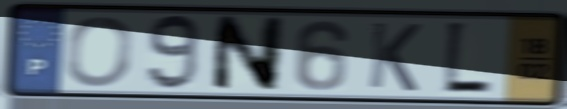6: (292, 18, 352, 93)
9: (141, 12, 203, 94)
K: (365, 19, 425, 94)
L: (440, 18, 496, 98)
N: (208, 14, 288, 94)
O: (62, 14, 136, 89)
